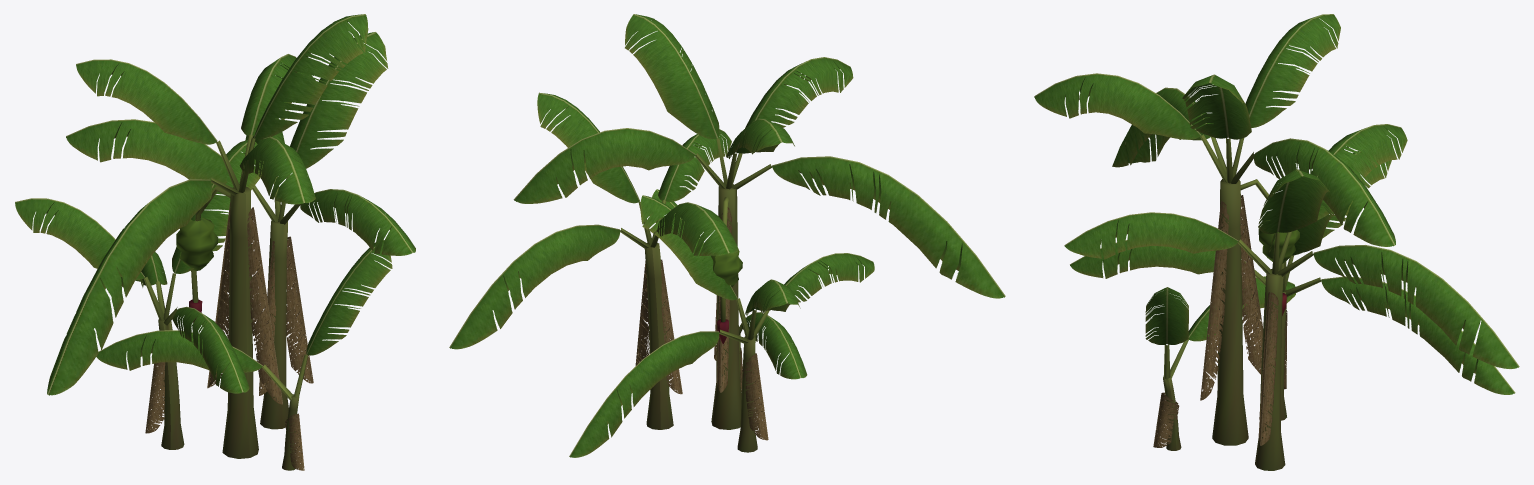
The model's file is banana.glb.
3 renders of one model, left to right at view 1: azimuth 30°, elevation 25°; view 2: azimuth 150°, elevation 25°; view 3: azimuth 270°, elevation 25°, orthographic. The views are drawn at different scales.
Parts seen in each view (by area): view 1: banana_leaves, banana_stems; view 2: banana_leaves, banana_stems; view 3: banana_leaves, banana_stems.
Boxes of the visible parts, <box> form: banana_leaves: <box>15,14,415,470</box>; banana_stems: <box>143,135,308,470</box>; banana_leaves: <box>449,14,1005,457</box>; banana_stems: <box>620,138,771,452</box>; banana_leaves: <box>1034,14,1519,447</box>; banana_stems: <box>1163,134,1321,470</box>.
Bounding box in the file's own units: 4.31 × 4 × 4.29.
Materials: 2 (1 with a texture image).
